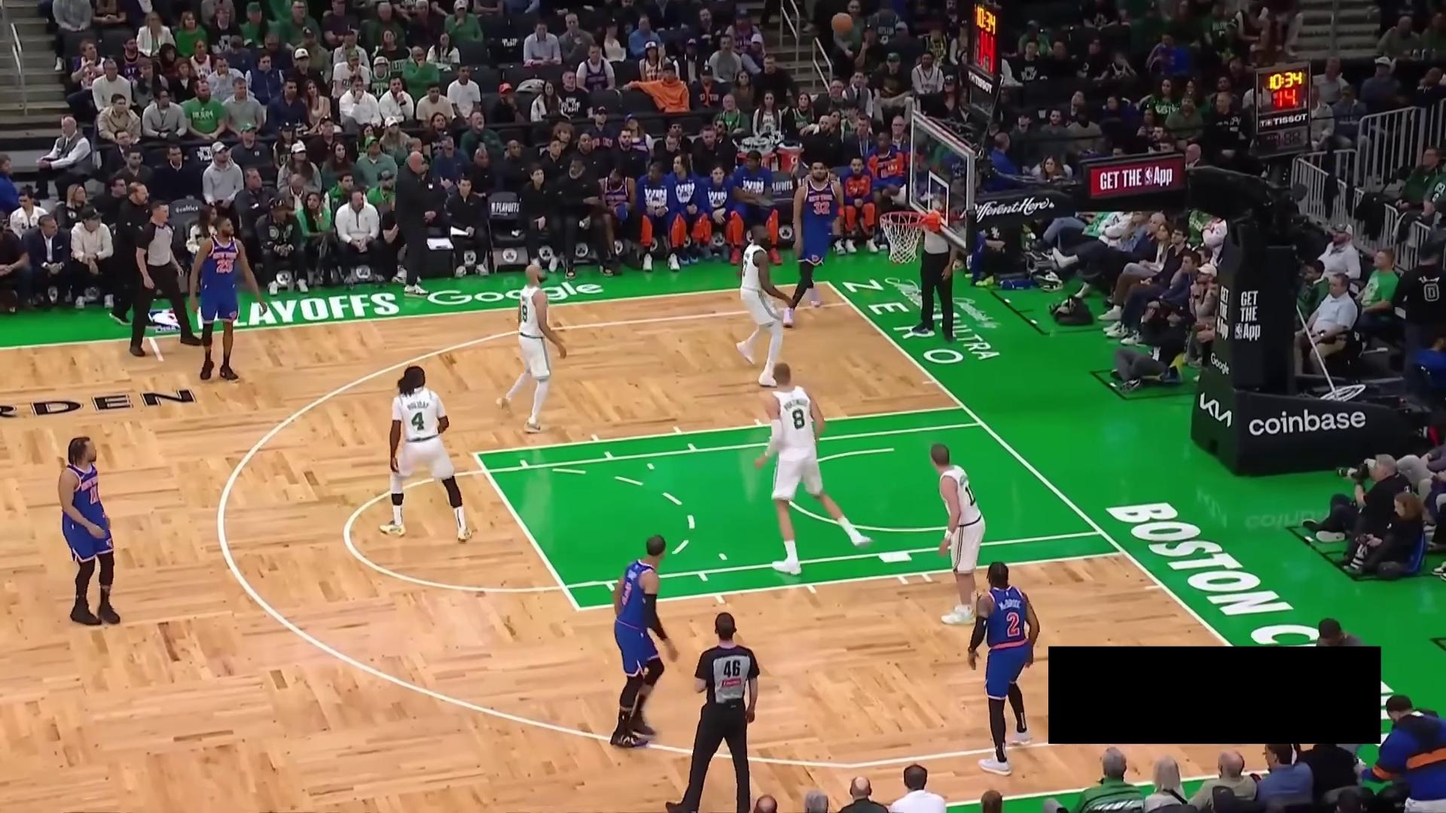ball: (830, 10, 855, 38)
number: (962, 481, 977, 507), (1006, 611, 1021, 636), (790, 408, 806, 430), (619, 581, 632, 606), (412, 411, 427, 432), (813, 199, 831, 216), (218, 257, 233, 272), (522, 303, 529, 323)
player: (751, 361, 871, 577), (378, 365, 474, 543), (967, 560, 1043, 777), (608, 534, 682, 749), (185, 213, 264, 382), (498, 258, 568, 435), (59, 436, 122, 627), (733, 220, 796, 387), (930, 443, 987, 627), (784, 160, 845, 313)
referee: (668, 611, 761, 813), (130, 202, 201, 358), (913, 225, 961, 340)
rim: (880, 210, 926, 227)
